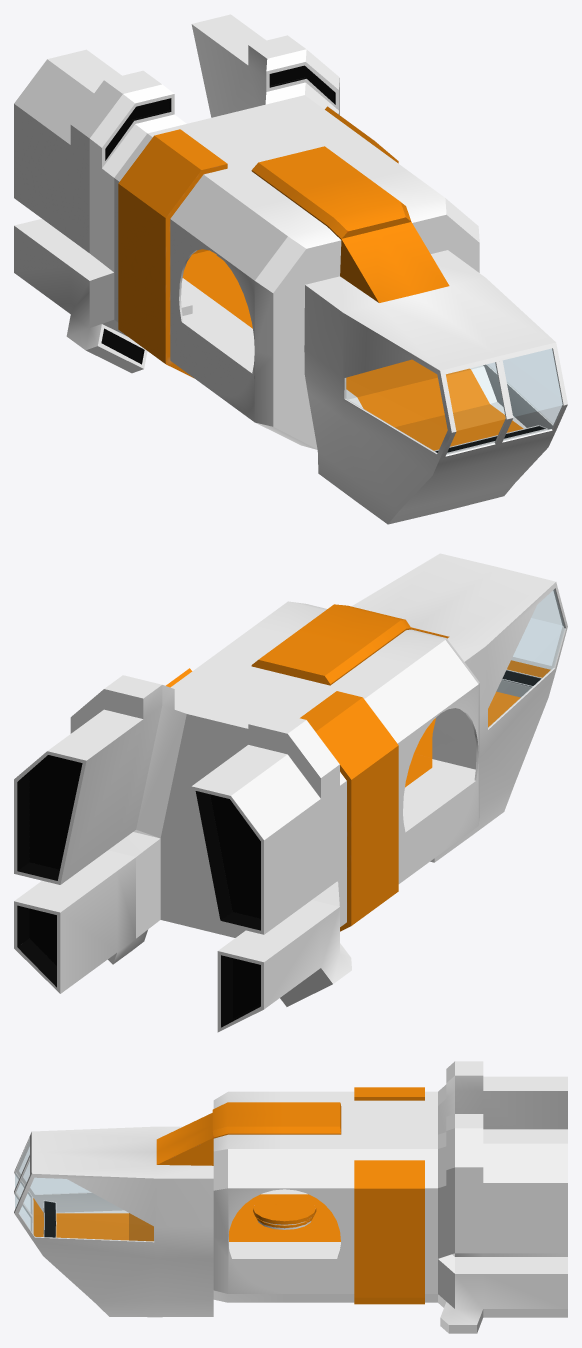
Rendered from Nave.fbx.
The picture shows the model from 3 angles, top to bottom: view 1: azimuth 30°, elevation 25°; view 2: azimuth 150°, elevation 25°; view 3: azimuth 270°, elevation 25°; orthographic projection. The views are drawn at different scales.
Parts seen in each view (by area): view 1: CuerpoNave, CabinaNave, VentanaNave, Terminal2; view 2: CuerpoNave, CabinaNave, VentanaNave, Terminal2; view 3: CuerpoNave, CabinaNave, VentanaNave, ZonaVenta, Terminal2.
Boxes of the visible parts, x1=… form: CuerpoNave: x1=14, y1=14, x2=479, y2=449; CabinaNave: x1=304, y1=222, x2=567, y2=524; VentanaNave: x1=346, y1=348, x2=562, y2=454; Terminal2: x1=434, y1=425, x2=547, y2=454; CuerpoNave: x1=14, y1=601, x2=479, y2=1032; CabinaNave: x1=351, y1=553, x2=567, y2=862; VentanaNave: x1=488, y1=590, x2=564, y2=727; Terminal2: x1=496, y1=669, x2=541, y2=697; CuerpoNave: x1=212, y1=1061, x2=567, y2=1333; CabinaNave: x1=14, y1=1113, x2=213, y2=1317; VentanaNave: x1=15, y1=1140, x2=153, y2=1240; ZonaVenta: x1=253, y1=1194, x2=316, y2=1229; Terminal2: x1=43, y1=1200, x2=56, y2=1237.
Size of the model in its own units: 4065 by 4045 by 9800.
Materials: 5 (4 with a texture image).
